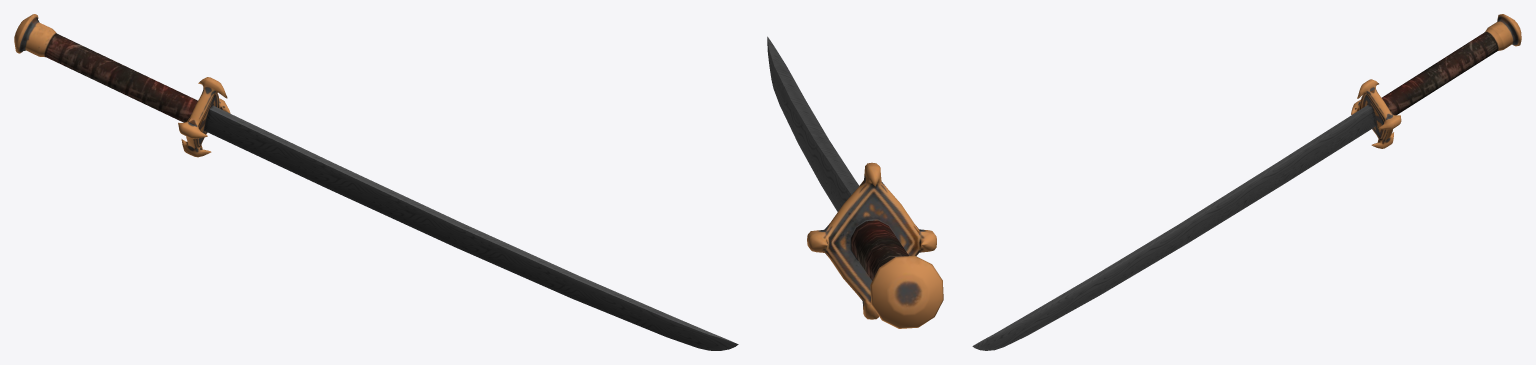
Rendered from katana_raw.glb.
3 renders of one model, left to right at view 1: azimuth 90°, elevation 25°; view 2: azimuth 210°, elevation 25°; view 3: azimuth 330°, elevation 25°, orthographic. The views are drawn at different scales.
Visible parts, largest first — view 1: katana.001; view 2: katana.001; view 3: katana.001.
Boxes of the visible parts, x1,y1,x2,y2 form: katana.001: (14, 14, 738, 350); katana.001: (767, 36, 943, 328); katana.001: (972, 14, 1521, 350).
Bounding box in the file's own units: 0.4587 × 0.3129 × 0.9882.
Materials: 1 (1 with a texture image).
